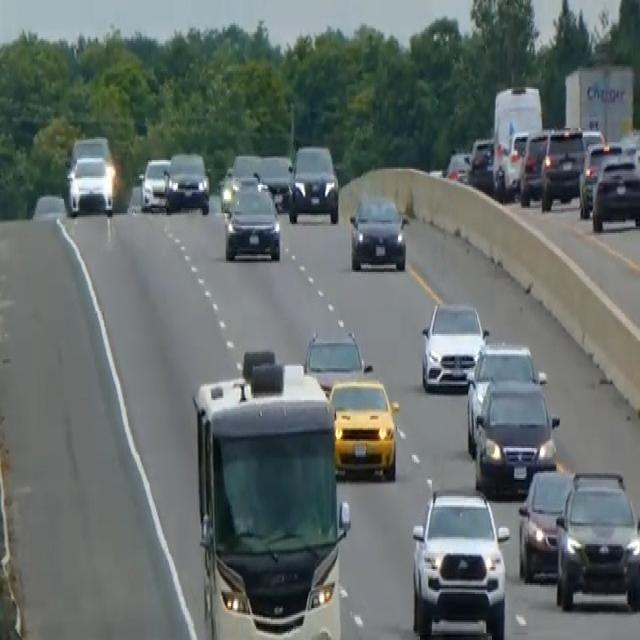bus: (190, 348, 351, 638)
car: (409, 482, 510, 638), (554, 468, 639, 612), (473, 375, 559, 496), (465, 339, 544, 457), (327, 373, 400, 482), (517, 466, 575, 583), (420, 297, 488, 391), (348, 192, 408, 272), (303, 327, 372, 395), (224, 182, 281, 262), (287, 140, 340, 224), (539, 125, 586, 212), (591, 153, 639, 233), (577, 139, 622, 217), (65, 151, 114, 215), (164, 150, 210, 213), (518, 126, 549, 204), (257, 153, 292, 208), (138, 154, 170, 212), (467, 135, 494, 190), (68, 134, 113, 166), (443, 148, 471, 183)
